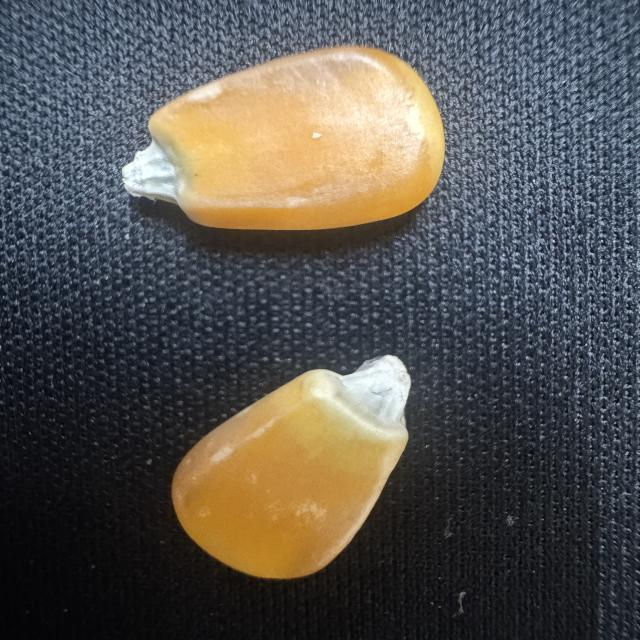Good-Seed: (117, 38, 450, 238), (163, 346, 420, 588)
